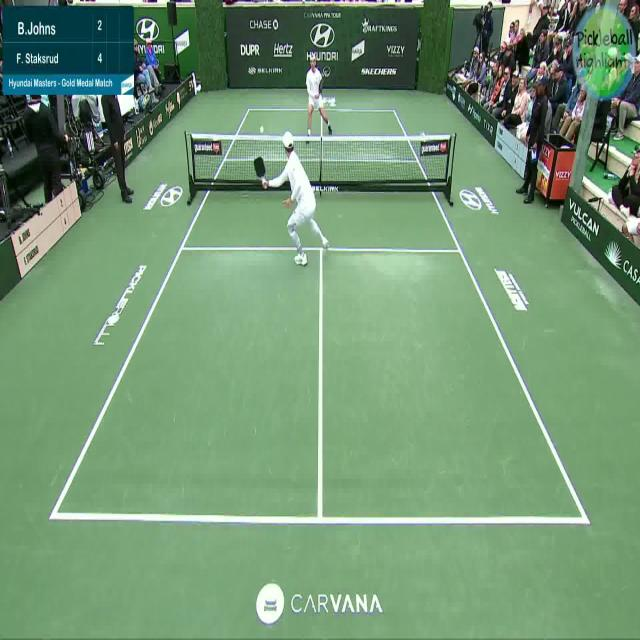ball: (259, 124, 264, 134)
